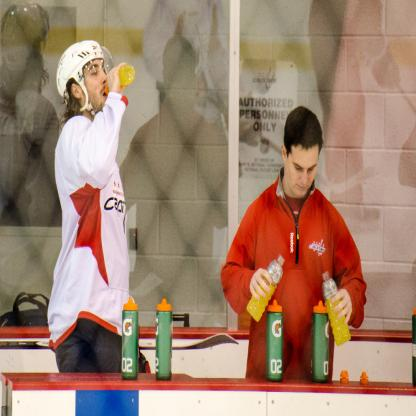Helmet: (51, 39, 106, 117)
